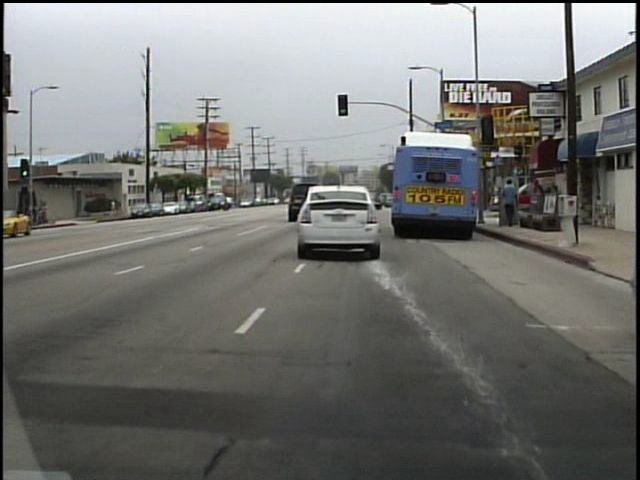person: (497, 177, 520, 232), (110, 196, 121, 218)
